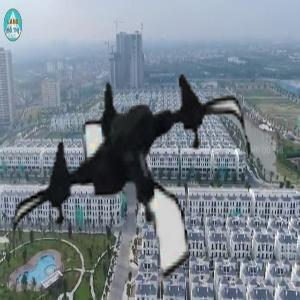drone: (9, 49, 255, 295)
